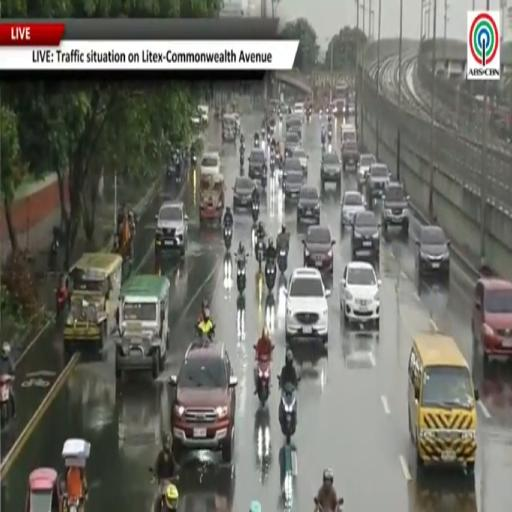car: (170, 340, 237, 462), (472, 274, 511, 363), (285, 268, 330, 345), (340, 262, 380, 326), (416, 226, 450, 281), (155, 201, 188, 255), (351, 211, 380, 262), (303, 227, 335, 273), (382, 182, 409, 236), (366, 163, 390, 206), (341, 190, 365, 229), (297, 185, 320, 223), (233, 176, 254, 212), (321, 152, 341, 189), (248, 149, 267, 187), (357, 154, 376, 190), (283, 170, 303, 200), (342, 141, 359, 171), (200, 151, 220, 175), (283, 157, 303, 179), (292, 149, 308, 173), (285, 132, 300, 157), (286, 119, 302, 142), (222, 115, 236, 141), (285, 115, 302, 136), (341, 124, 356, 143), (293, 102, 305, 118), (198, 105, 208, 124), (191, 109, 201, 127), (233, 112, 241, 133), (329, 101, 338, 115), (346, 102, 355, 116)
jeepney: (63, 253, 122, 355), (116, 275, 170, 378), (200, 174, 225, 223)
motorcycle: (150, 468, 179, 511), (279, 382, 296, 444), (256, 357, 270, 406), (0, 375, 13, 426), (314, 498, 344, 511), (265, 260, 276, 292), (237, 258, 246, 293), (196, 325, 215, 341), (256, 237, 264, 269), (277, 249, 287, 274), (66, 496, 80, 511), (224, 226, 232, 250), (252, 202, 259, 222), (270, 154, 275, 174), (191, 152, 196, 169), (306, 108, 312, 122), (240, 149, 244, 167), (254, 138, 260, 148), (328, 131, 332, 143), (319, 108, 323, 118), (267, 131, 270, 143), (279, 110, 282, 120)
